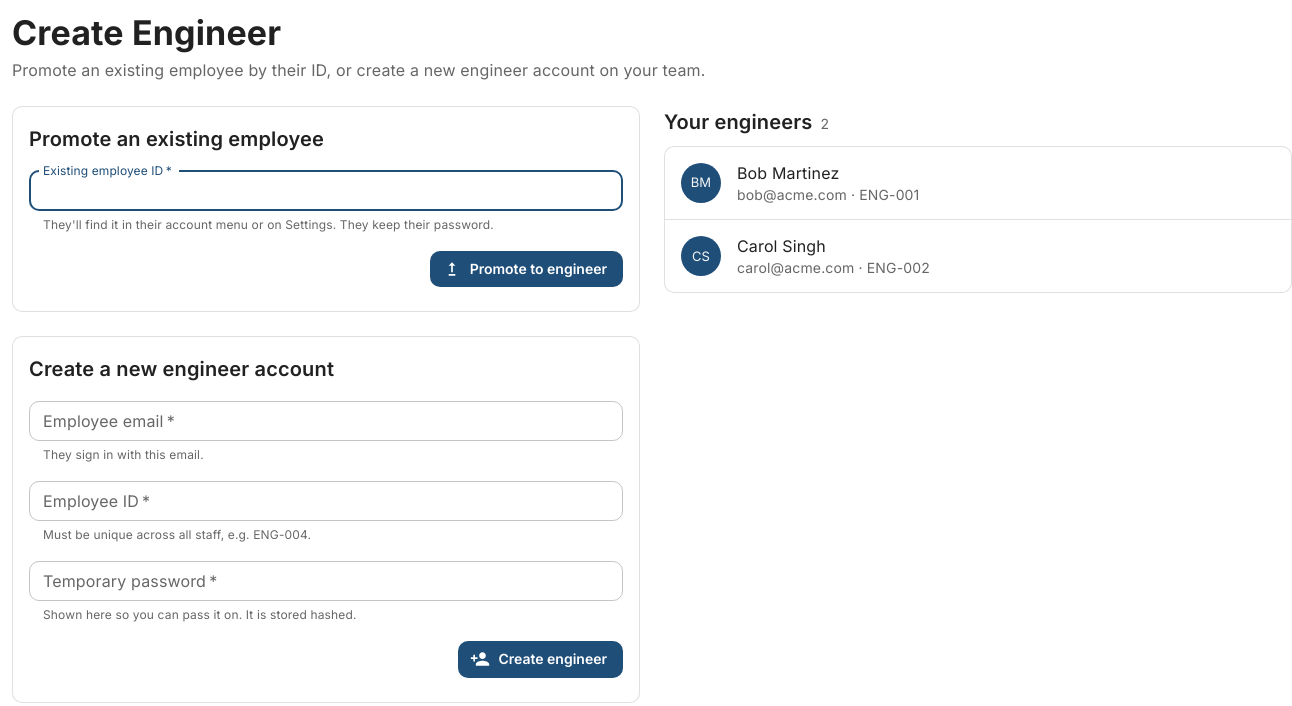
Test: CreateEngineerPage against the real backend › shows a refusal from the backend until the employee ID is edited
This screenshot has width=1292, height=706.
Expected: the text "Bob Martinez" is shown, [737, 163, 839, 183]
In the field labelled "Employee email *": [326, 421] box [29, 401, 623, 441], type "new.eng@acme.inc"
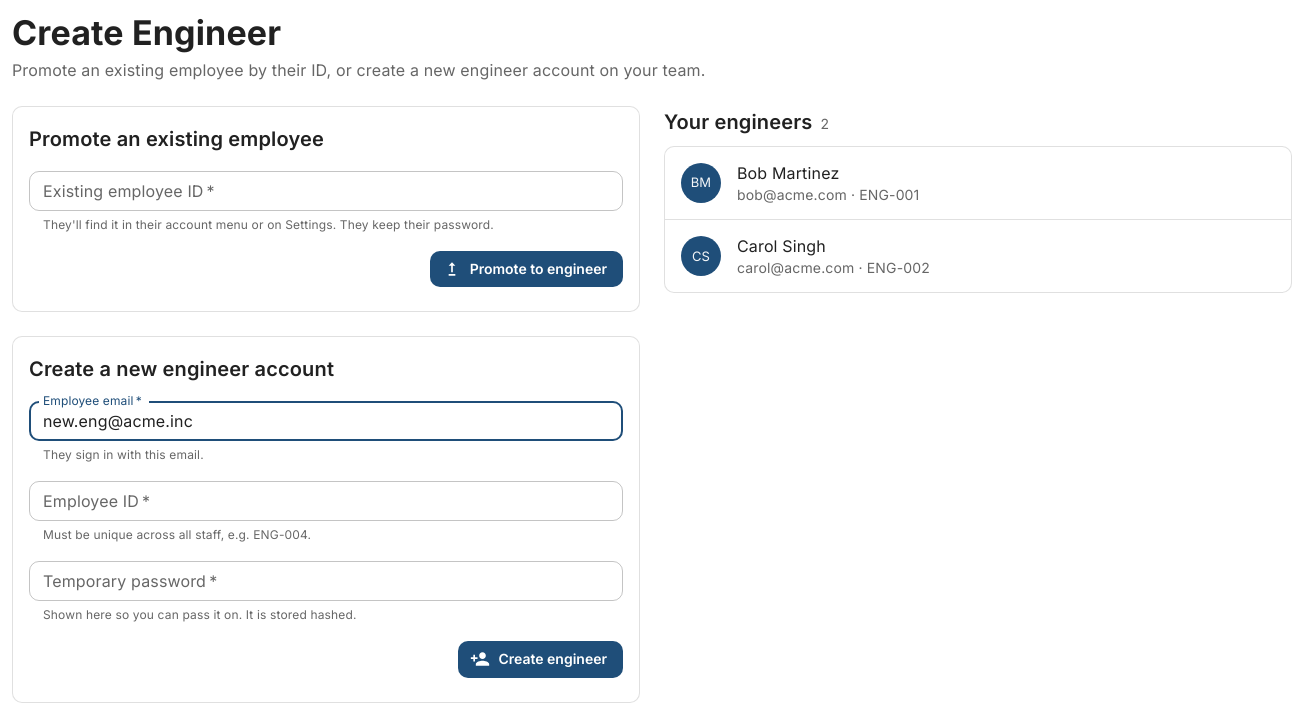
In the field labelled "Employee ID *": [326, 501] box [29, 481, 623, 521], type "ENG-004"
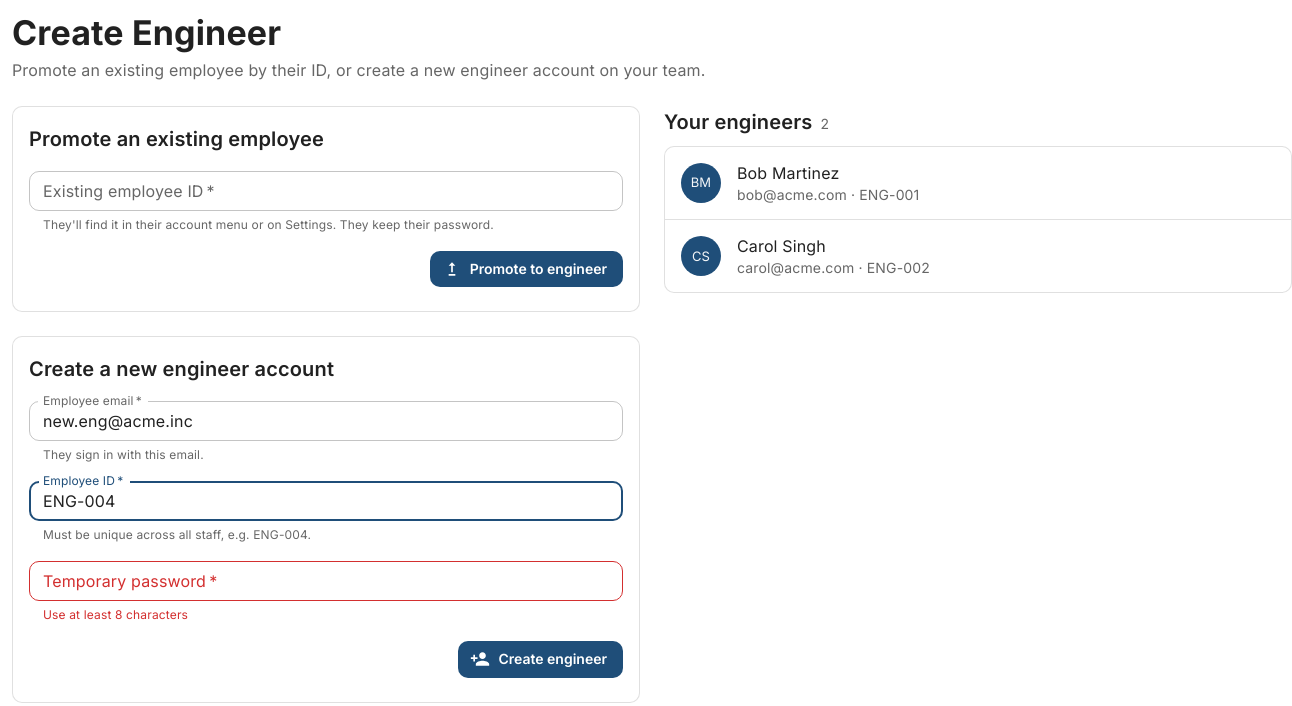
In the field labelled "Temporary password *": [326, 581] box [29, 561, 623, 601], type "temp-pass-1"
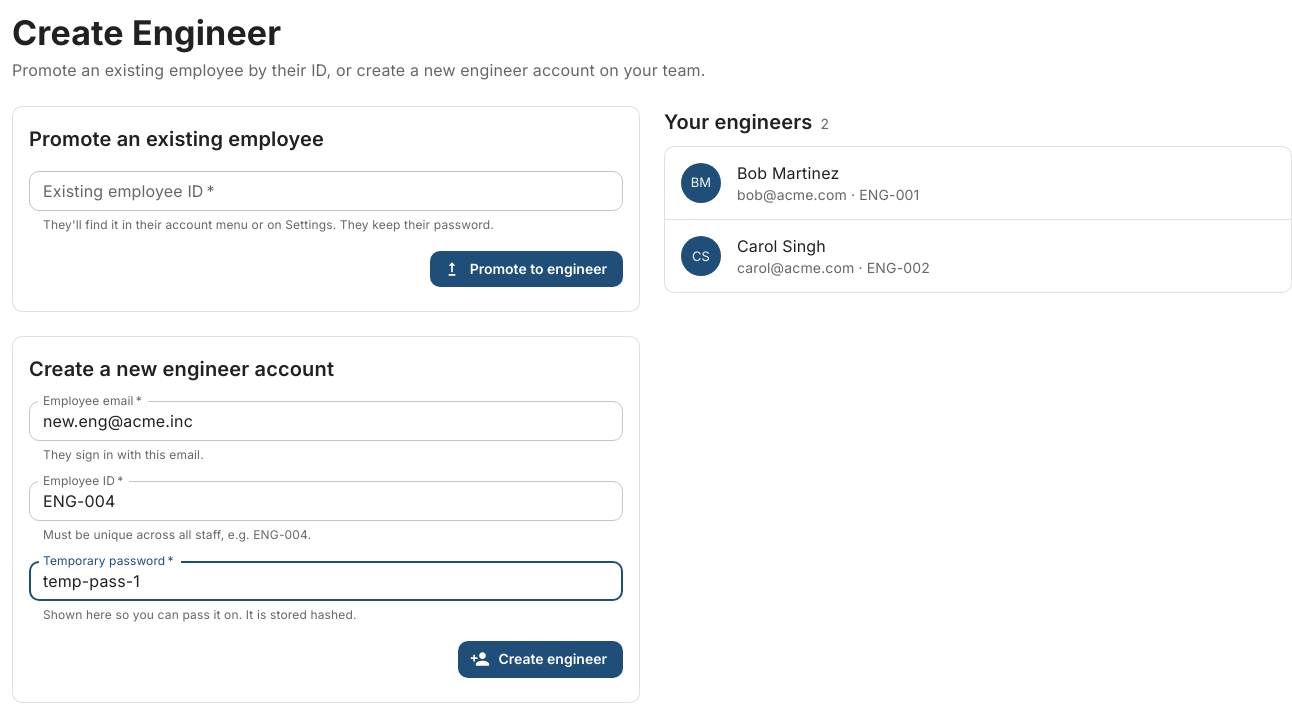
Click the button "Create engineer": [541, 659] box [458, 641, 623, 678]
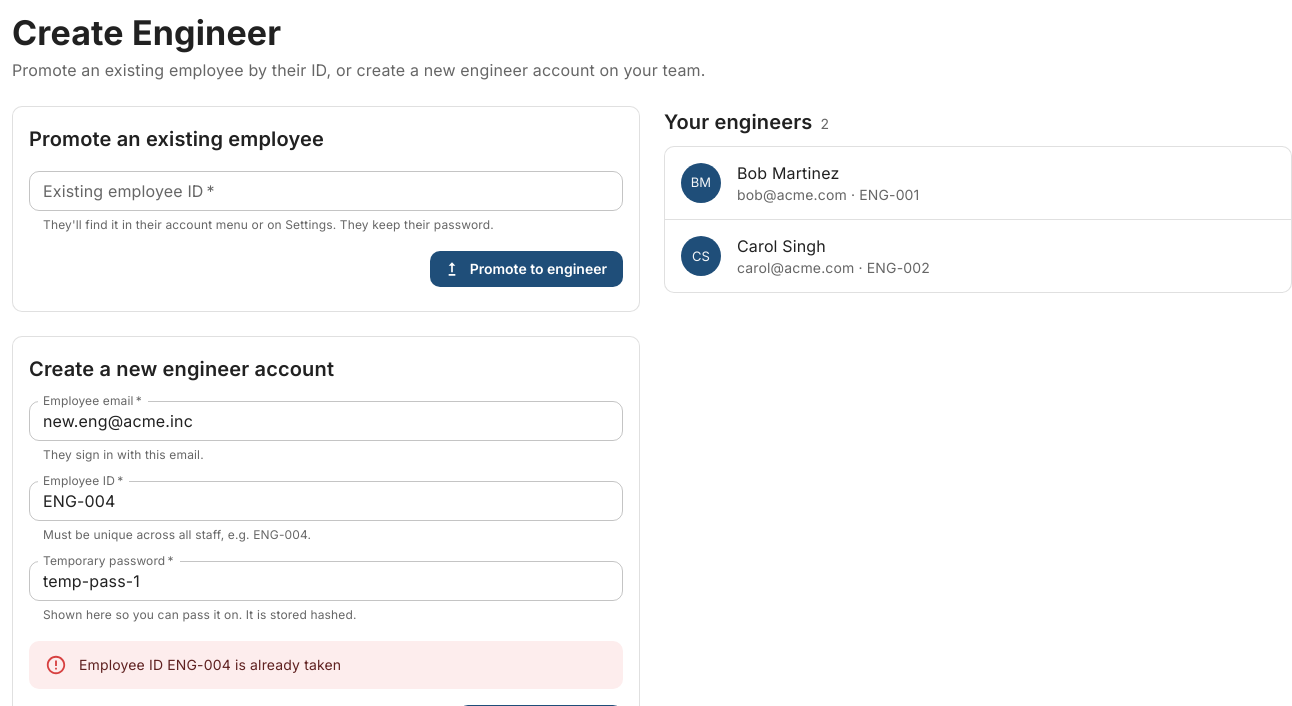
Now the text "Employee ID ENG-004 is already taken" is shown, box [79, 656, 341, 673]
In the field labelled "Employee ID *": [326, 501] box [29, 481, 623, 521], type "5"
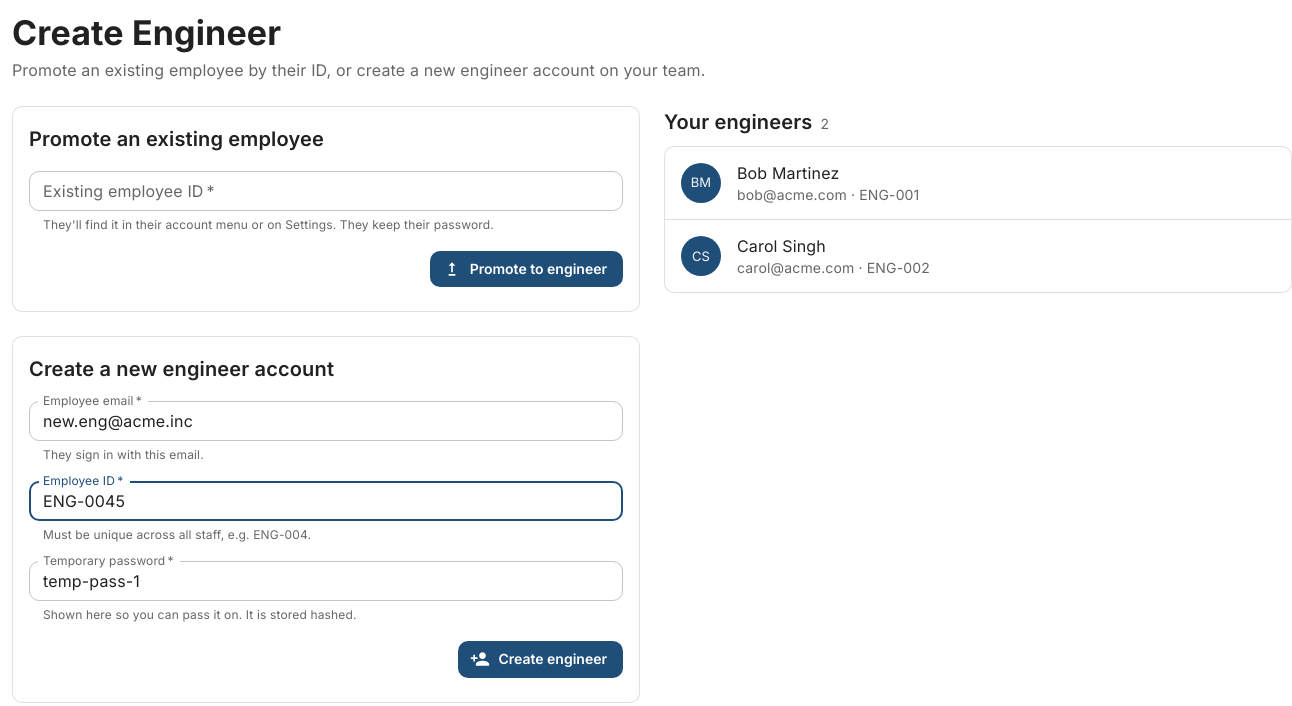
Now the text "Employee ID ENG-004 is already taken" is gone
